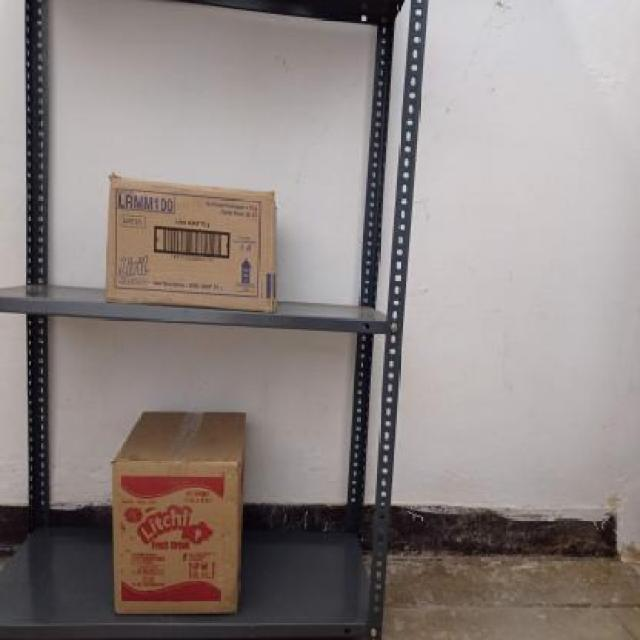box: (102, 176, 278, 315), (111, 462, 237, 616)
